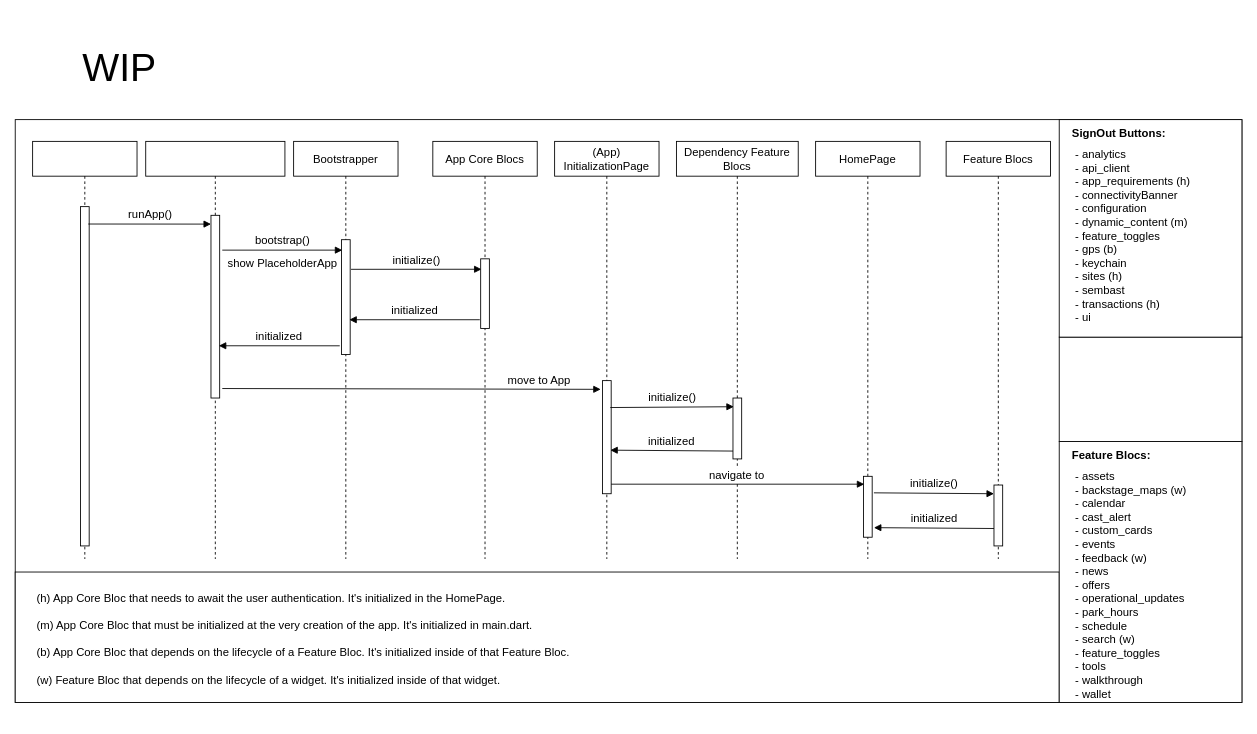
Image size: 1257x734. Some labels were removed from this diagram. The box of each missing label's shape, as (x1, y1, x2, y2) in pixels:
AppBootstrapWidget: (145, 141, 285, 559)
Dependency Features Blocs: - translations - firestore - user_profile - settings: (1058, 336, 1242, 442)
SignOut Button: (32, 141, 137, 559)
